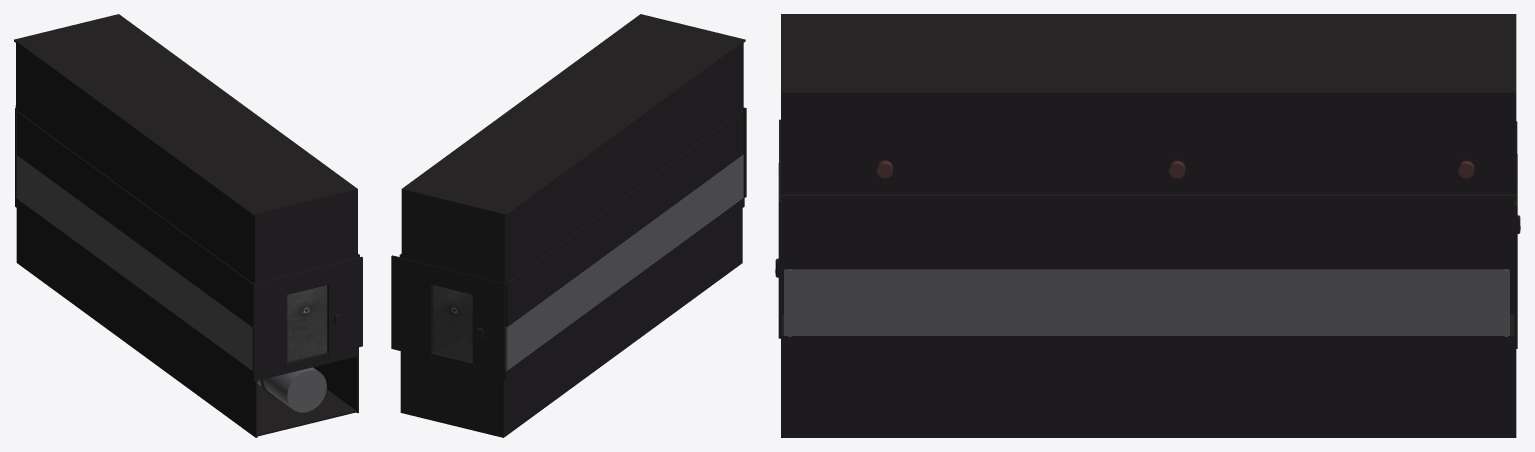
Rendered from SCP Hallway B.obj.
3 renders of one model, left to right at view 1: azimuth 30°, elevation 25°; view 2: azimuth 150°, elevation 25°; view 3: azimuth 270°, elevation 25°, orthographic. The views are drawn at different scales.
Visible parts, largest first — view 1: Part70, Part66, Part10, Part8, Part9, Part48, Part99, Part3, Part98, Door5, Part12, Part39 (+4 smaller); view 2: Part70, Part66, Part10, Part8, Part9, Part86, Part83, Part102, Part100, Door3, Part12, Part11 (+4 smaller); view 3: Part85, Part84, Part70, Part60, Part1, Part4, Part96.
Part boxes in pixels (x1=…): Part70: x1=14, y1=14, x2=357, y2=216; Part66: x1=16, y1=43, x2=256, y2=280; Part10: x1=16, y1=208, x2=257, y2=437; Part8: x1=17, y1=111, x2=252, y2=327; Part9: x1=17, y1=155, x2=252, y2=370; Part48: x1=256, y1=191, x2=356, y2=279; Part99: x1=252, y1=276, x2=285, y2=372; Part3: x1=16, y1=261, x2=355, y2=436; Part98: x1=330, y1=256, x2=362, y2=353; Door5: x1=287, y1=285, x2=327, y2=361; Part12: x1=15, y1=197, x2=270, y2=381; Part39: x1=263, y1=367, x2=326, y2=412; Part70: x1=401, y1=14, x2=745, y2=216; Part66: x1=502, y1=43, x2=743, y2=280; Part10: x1=502, y1=208, x2=742, y2=435; Part8: x1=505, y1=110, x2=743, y2=326; Part9: x1=505, y1=154, x2=743, y2=370; Part86: x1=403, y1=191, x2=502, y2=279; Part83: x1=400, y1=356, x2=503, y2=437; Part102: x1=391, y1=255, x2=429, y2=357; Part100: x1=474, y1=276, x2=505, y2=372; Door3: x1=432, y1=285, x2=472, y2=361; Part12: x1=489, y1=197, x2=744, y2=381; Part11: x1=488, y1=105, x2=743, y2=286; Part85: x1=781, y1=335, x2=1516, y2=437; Part84: x1=781, y1=95, x2=1516, y2=194; Part70: x1=781, y1=14, x2=1516, y2=95; Part60: x1=784, y1=269, x2=1509, y2=335; Part1: x1=784, y1=207, x2=1509, y2=269; Part4: x1=781, y1=194, x2=1516, y2=207; Part96: x1=781, y1=324, x2=1514, y2=350.
Bounding box in the file's own units: 12.7 × 23.67 × 46.42.
8 materials, 1 textured.
